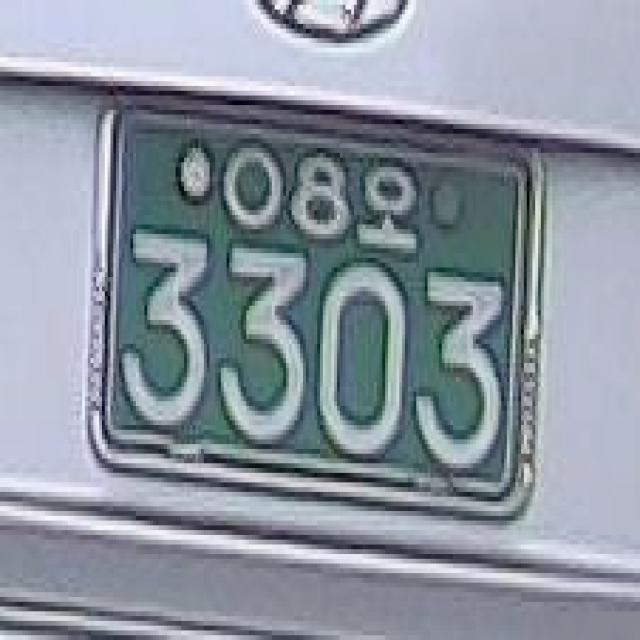illegal_plate: (75, 81, 552, 537)
